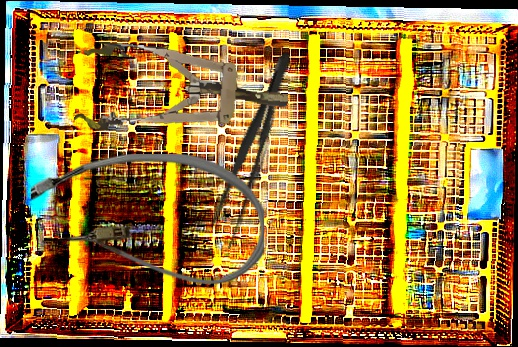Cannula: (31, 154, 264, 284)
Dressing Forceps: (203, 46, 302, 252)
Speculum: (73, 39, 292, 147)
